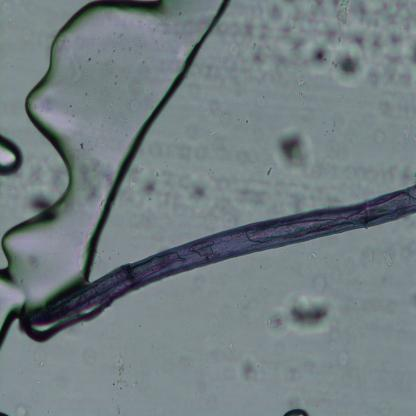Air bubble: (0, 0, 234, 337), (0, 134, 24, 180)
Background material: (236, 5, 315, 84), (364, 2, 416, 92), (305, 34, 367, 92), (265, 291, 336, 338), (222, 180, 308, 218), (275, 0, 365, 34), (326, 150, 395, 194), (270, 126, 317, 178), (184, 172, 214, 211), (132, 168, 165, 199), (233, 353, 262, 385), (150, 141, 194, 160), (374, 243, 400, 269), (26, 193, 58, 214), (204, 141, 236, 162), (335, 349, 351, 366), (372, 128, 388, 144), (281, 406, 312, 414), (314, 276, 329, 292), (304, 250, 317, 263)
Cotton: (17, 182, 416, 326)
